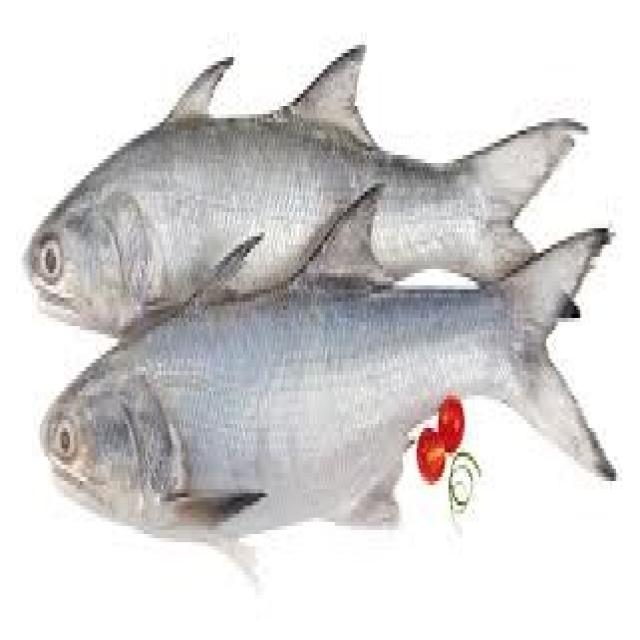Fourfinger-Threadfin: (32, 235, 624, 554), (22, 62, 590, 310)
